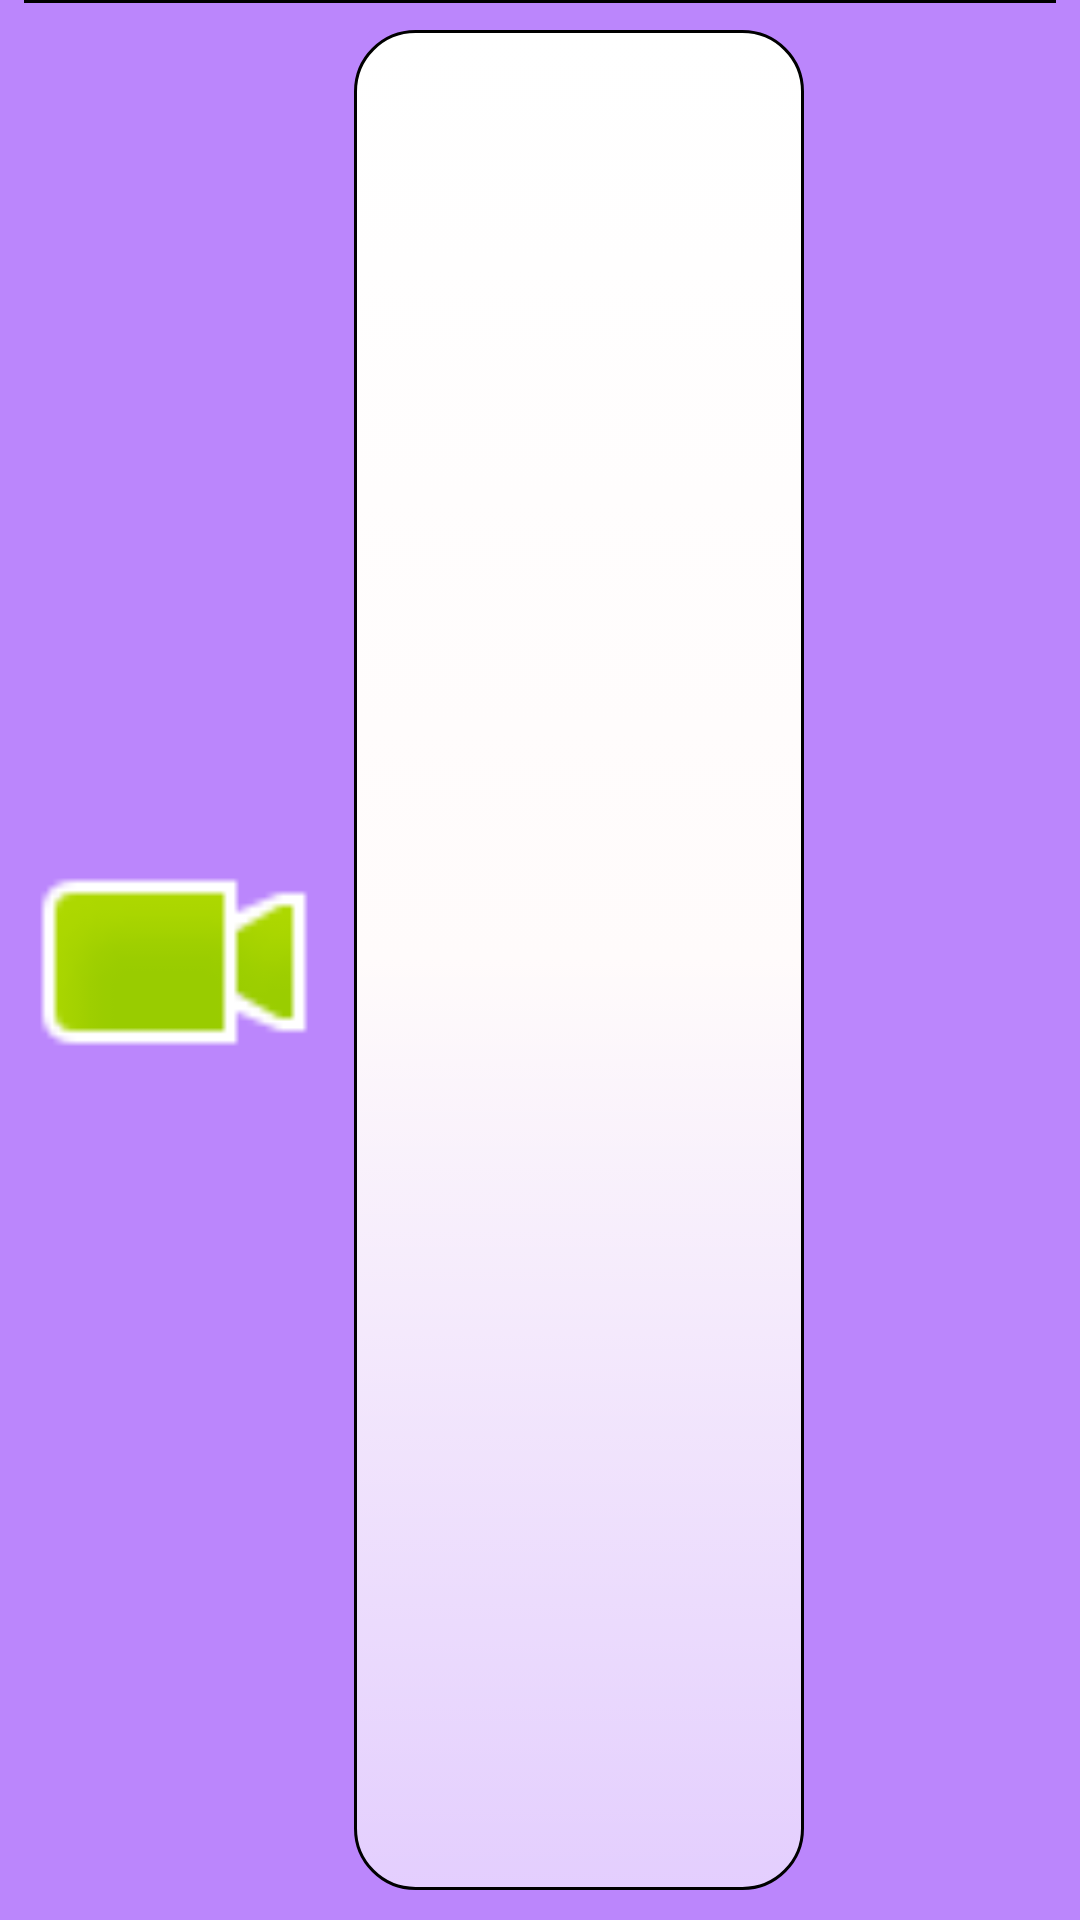

Where to tap for icons on this 1080 x 1920 app screen, as (x=x, y=y):
presence video online: (x=174, y=962)
